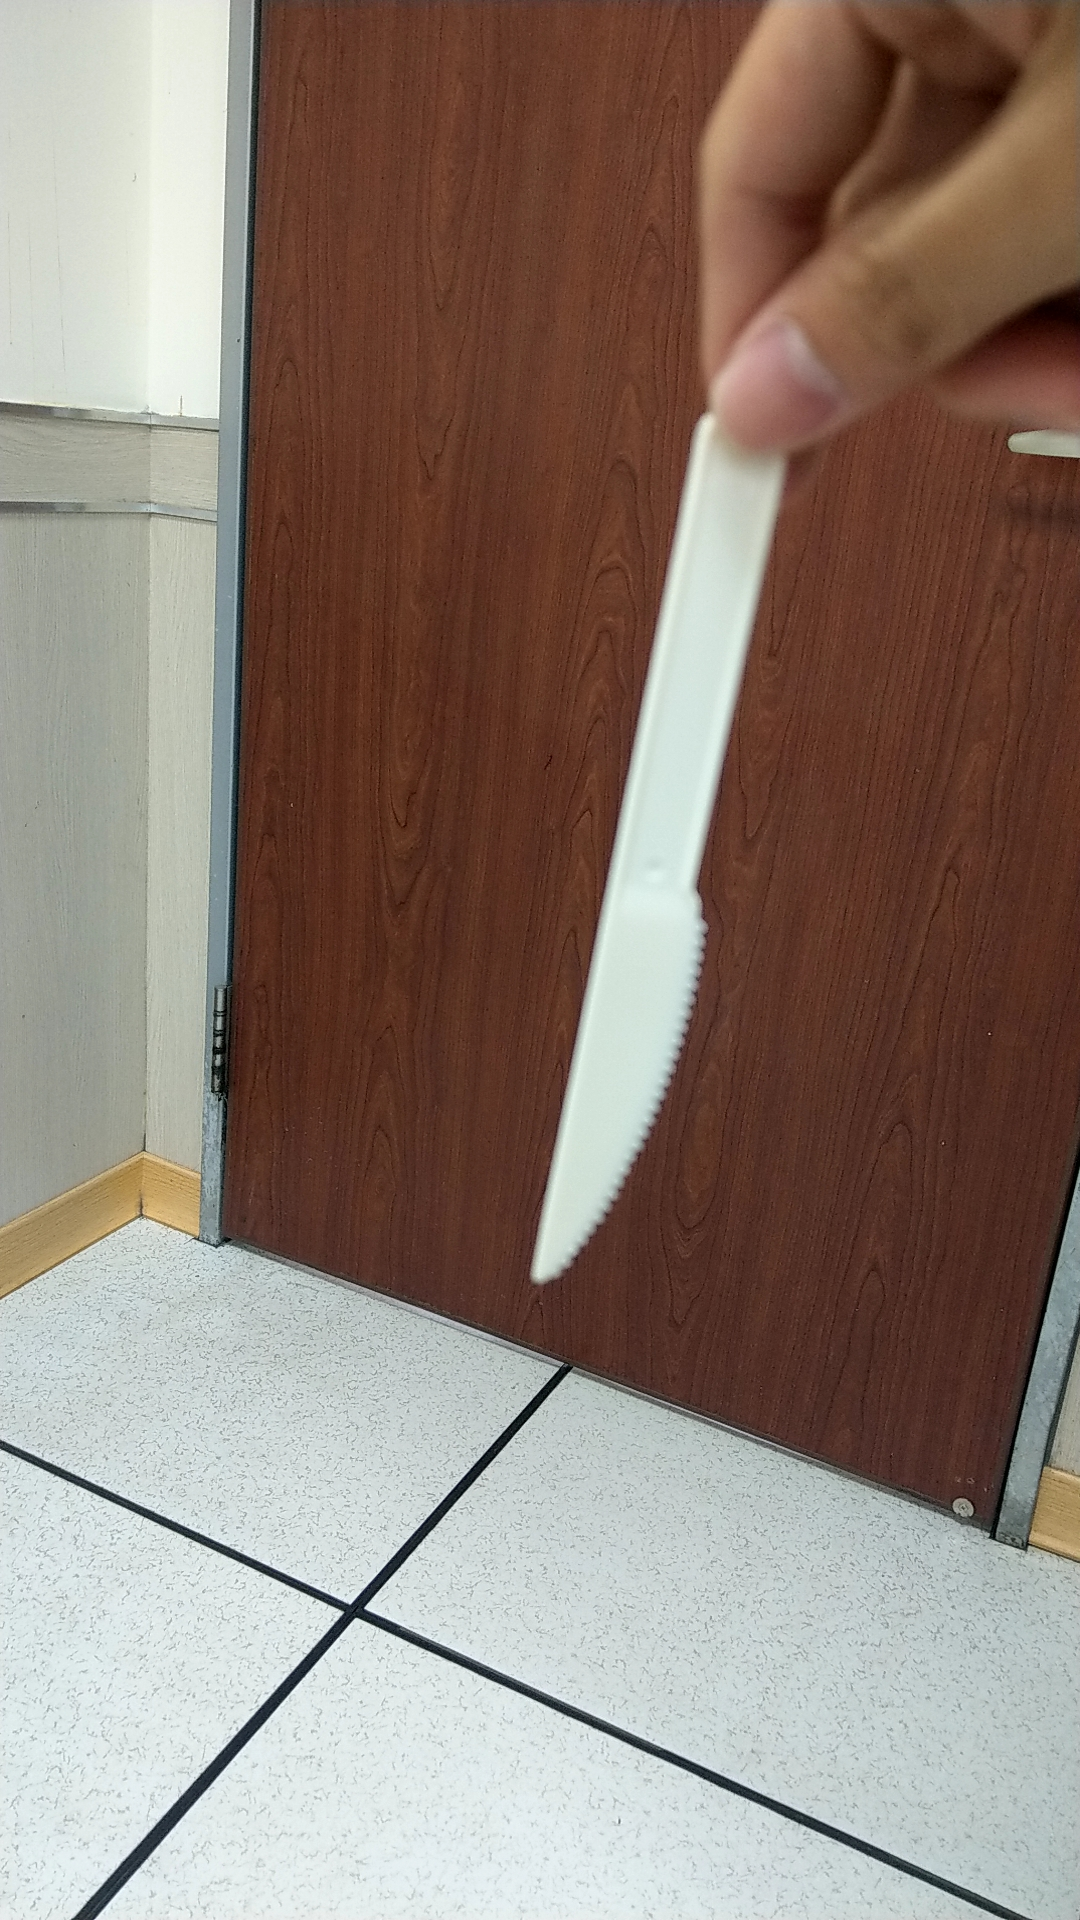knife: (512, 433, 811, 1304)
